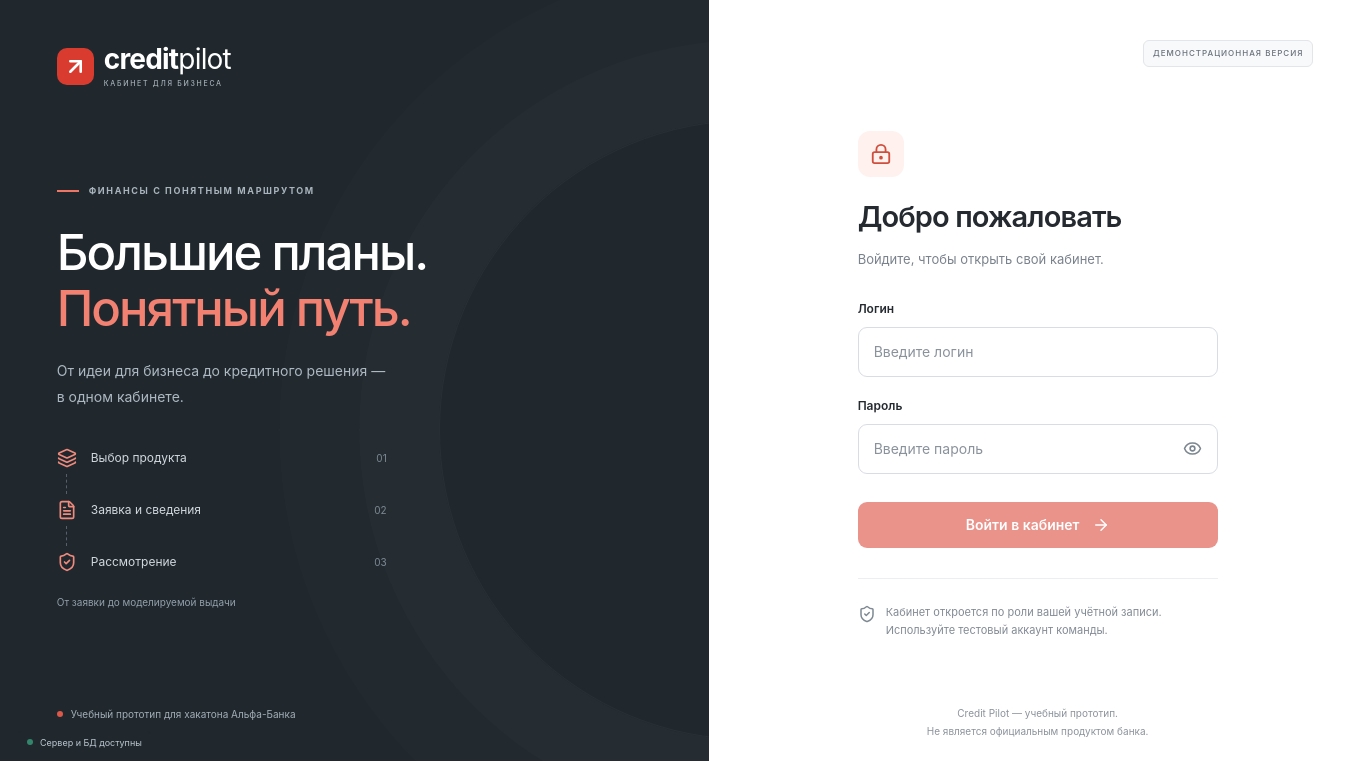
Test: серверная сессия и навигация › понятно обрабатывает ошибку входа 401
The image size is (1366, 761).
Type "client-a" into the field labelled "Логин" at (1038, 352), box [858, 327, 1218, 377]
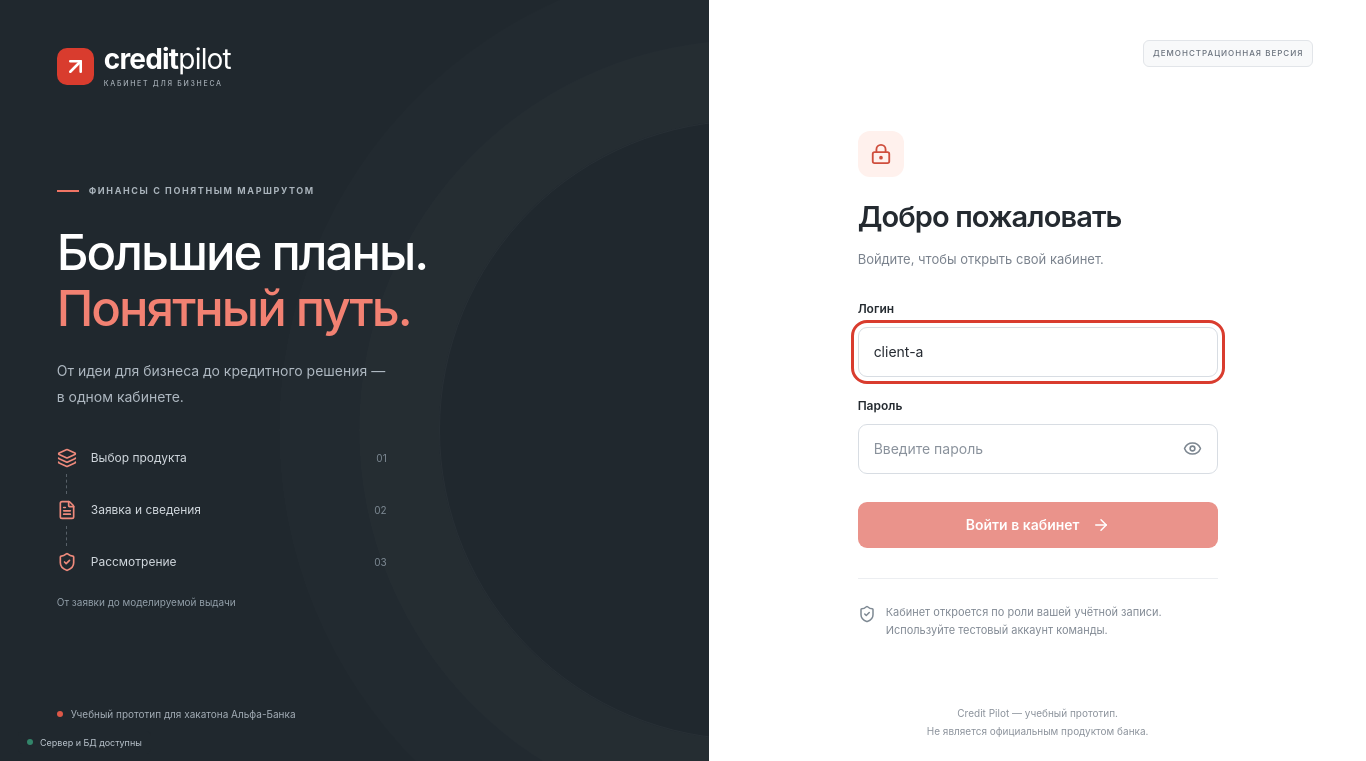
Type "test-input" into the password field labelled "Пароль" at (1038, 449), box [858, 424, 1218, 474]
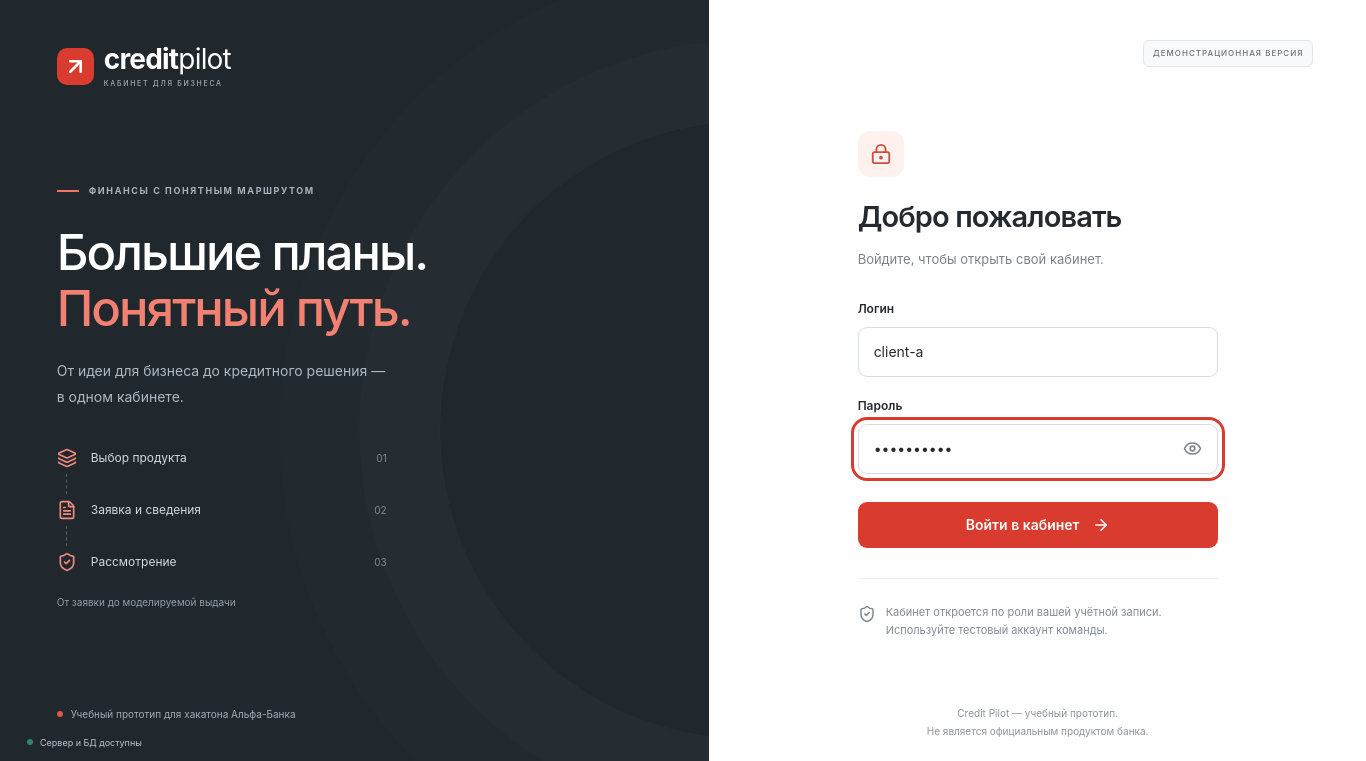
Click the button "Войти в кабинет" at (1038, 525), box [858, 502, 1218, 548]
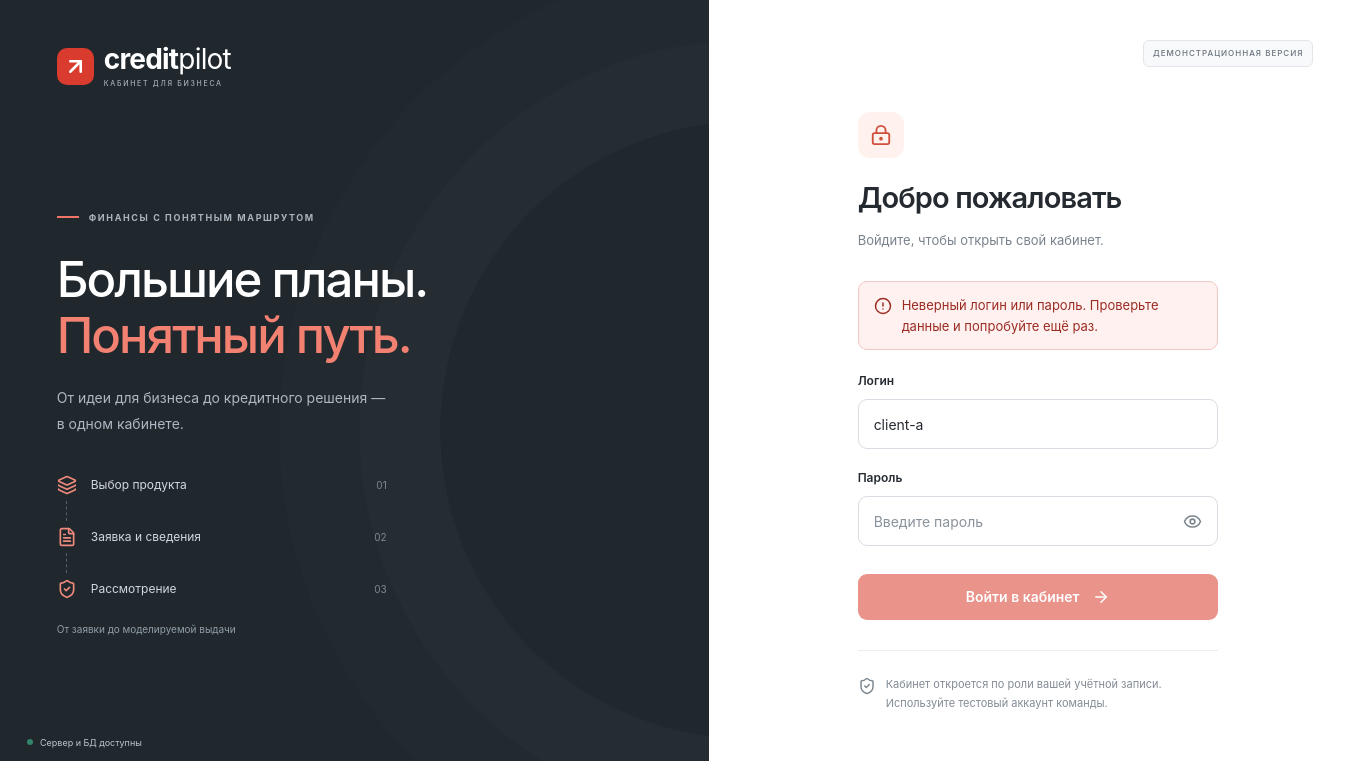
expect the message "Неверный логин или пароль. Проверьте данные и попробуйте ещё раз." is shown: met, box [858, 281, 1218, 350]
expect the password field labelled "Пароль" is empty: met, box [858, 496, 1218, 546]
